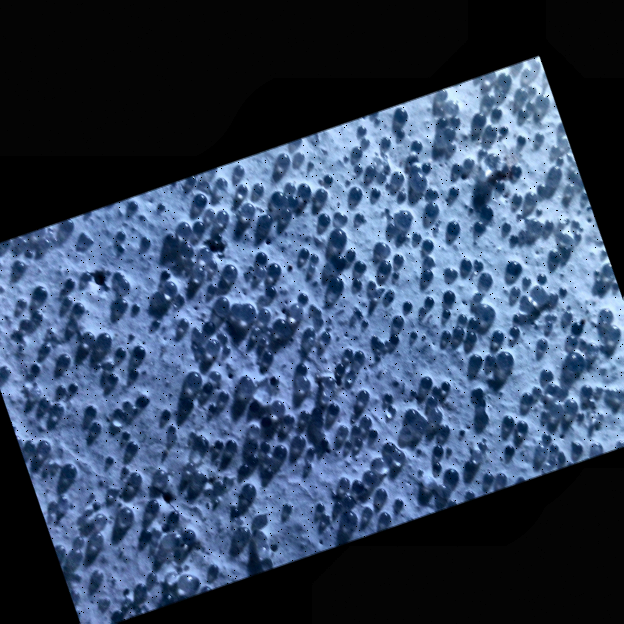GrassBeadSeg: (69, 115, 554, 600), (54, 124, 508, 557), (146, 93, 533, 582), (177, 106, 542, 591), (118, 148, 487, 603), (93, 116, 488, 526), (70, 152, 442, 581), (57, 83, 537, 413), (24, 133, 570, 408), (39, 86, 503, 407), (70, 338, 587, 594), (93, 111, 487, 433), (234, 92, 494, 540), (62, 105, 503, 360), (164, 232, 563, 506), (72, 301, 594, 507), (130, 240, 550, 485), (78, 231, 559, 444), (152, 116, 453, 455), (131, 135, 392, 523), (60, 209, 440, 475), (156, 197, 538, 457), (31, 87, 449, 322), (49, 98, 460, 335), (90, 161, 463, 419), (233, 156, 484, 538), (89, 160, 432, 431), (131, 70, 512, 312), (139, 235, 592, 438), (135, 126, 457, 406), (115, 226, 579, 413), (239, 124, 515, 422), (82, 117, 448, 341), (110, 139, 423, 400), (56, 291, 421, 512), (166, 204, 494, 433), (243, 193, 485, 497), (183, 185, 460, 448), (190, 350, 514, 572), (280, 191, 526, 483), (181, 367, 579, 542), (236, 175, 586, 369), (255, 93, 478, 383), (60, 151, 357, 366), (145, 259, 393, 513), (13, 259, 340, 450), (205, 123, 497, 332), (168, 198, 429, 431), (50, 299, 565, 414), (194, 221, 454, 448), (295, 162, 567, 374), (266, 261, 536, 473), (167, 176, 333, 520), (0, 364, 352, 525), (84, 187, 328, 416), (60, 217, 573, 321), (236, 183, 548, 347), (33, 182, 312, 364), (64, 277, 481, 398), (215, 209, 485, 395), (36, 267, 434, 387), (346, 290, 560, 507), (185, 172, 546, 300), (437, 111, 582, 420), (194, 198, 503, 339), (376, 106, 501, 441), (354, 133, 537, 360), (174, 224, 373, 426), (114, 150, 306, 358), (0, 238, 173, 465), (63, 262, 239, 479), (32, 284, 484, 367), (251, 181, 364, 491), (193, 131, 545, 230), (337, 106, 440, 436), (80, 330, 217, 573), (348, 185, 460, 482), (355, 248, 561, 402), (190, 174, 571, 256), (28, 385, 350, 482), (456, 94, 577, 346), (269, 173, 429, 363), (442, 126, 578, 343), (77, 461, 313, 580), (271, 317, 515, 426), (433, 58, 541, 303), (284, 313, 522, 424), (354, 135, 496, 321), (175, 316, 394, 436), (194, 167, 423, 280), (130, 293, 311, 434), (179, 126, 368, 254), (261, 118, 381, 319), (215, 213, 400, 342), (106, 394, 439, 464), (302, 211, 482, 339), (178, 220, 434, 309), (195, 164, 522, 233), (19, 270, 332, 342), (30, 364, 170, 522), (328, 222, 505, 342), (287, 194, 355, 505), (95, 192, 228, 348), (208, 285, 385, 400), (197, 247, 335, 385), (369, 298, 476, 471), (91, 480, 225, 616), (55, 464, 459, 509), (10, 259, 229, 341), (173, 292, 311, 420), (273, 329, 358, 527), (495, 187, 552, 482), (97, 279, 229, 405), (476, 93, 550, 315), (237, 325, 466, 391), (39, 340, 336, 388), (321, 418, 494, 499), (167, 501, 341, 580), (182, 363, 337, 451), (257, 212, 458, 278), (393, 208, 478, 364), (286, 301, 496, 363), (36, 423, 435, 454), (116, 206, 476, 240), (68, 280, 179, 390), (177, 255, 212, 586), (425, 219, 487, 404), (152, 290, 485, 324), (330, 253, 397, 414), (436, 342, 549, 436), (268, 269, 339, 417), (290, 276, 346, 448), (21, 226, 196, 279), (414, 237, 547, 305), (426, 296, 519, 393), (126, 369, 204, 483), (533, 316, 621, 415), (284, 440, 396, 517), (337, 388, 418, 488), (438, 441, 583, 496), (359, 136, 506, 189), (521, 183, 607, 273), (45, 328, 126, 419), (217, 212, 331, 275), (261, 154, 367, 221), (190, 176, 268, 263), (503, 151, 578, 241), (524, 190, 556, 395), (518, 368, 621, 430), (117, 498, 404, 520), (310, 281, 379, 371), (498, 67, 563, 159), (128, 163, 245, 211), (20, 278, 129, 328), (446, 219, 524, 287), (248, 402, 340, 458), (380, 171, 434, 266), (125, 439, 444, 454), (123, 408, 191, 476), (255, 324, 389, 358), (551, 388, 611, 463), (424, 187, 475, 270), (260, 349, 508, 366), (545, 273, 618, 326), (214, 453, 272, 514), (513, 164, 562, 221), (378, 295, 435, 344), (345, 438, 423, 473), (345, 150, 384, 218), (463, 361, 485, 471), (188, 438, 246, 477), (302, 212, 344, 262), (195, 325, 266, 353), (256, 205, 346, 225), (355, 211, 409, 240), (209, 282, 250, 320), (423, 201, 460, 233), (203, 309, 229, 352), (104, 429, 132, 464), (71, 372, 120, 390), (400, 164, 421, 200), (207, 369, 231, 400), (245, 303, 262, 320)
